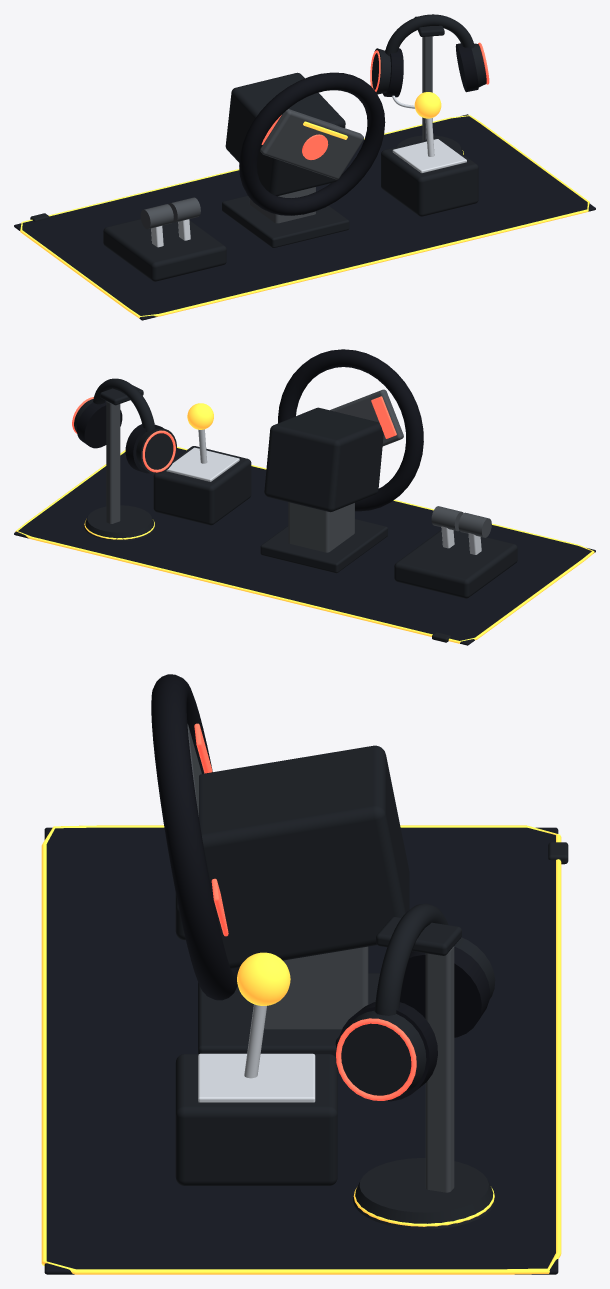
Rendered from atelier-gaming-loadout-simrig-ember.glb.
The picture shows the model from 3 angles, top to bottom: view 1: azimuth 30°, elevation 25°; view 2: azimuth 150°, elevation 25°; view 3: azimuth 270°, elevation 25°; orthographic projection. The views are drawn at different scales.
Bounding box in the file's own units: 0.9452 × 0.3403 × 0.4716.
